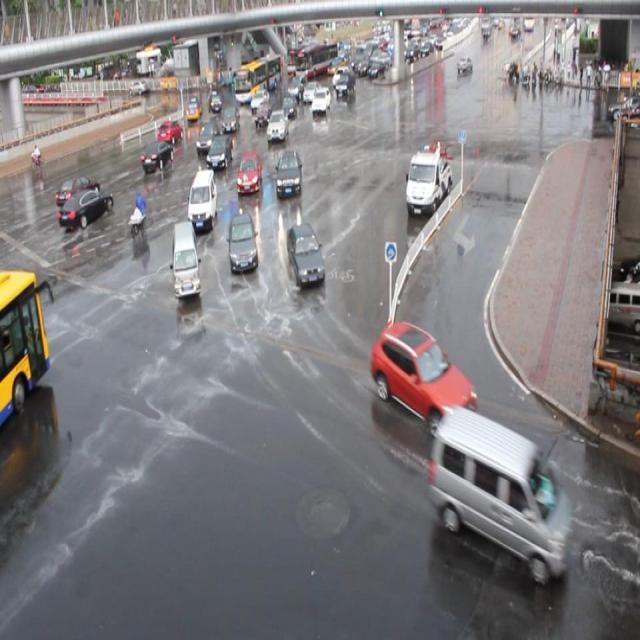bus: (404, 146, 452, 214)
car: (372, 320, 478, 436), (286, 222, 326, 284), (58, 188, 114, 228), (228, 212, 260, 270), (56, 174, 101, 206), (275, 150, 302, 194), (236, 150, 262, 193), (140, 139, 172, 169), (206, 134, 234, 168), (196, 122, 222, 151), (266, 110, 289, 139), (157, 119, 183, 144), (310, 87, 330, 112), (287, 75, 307, 98), (222, 106, 240, 131), (302, 80, 321, 101), (280, 95, 297, 118), (254, 102, 272, 123), (185, 98, 202, 120), (250, 90, 270, 108), (208, 91, 221, 112)
truck: (429, 406, 566, 578), (172, 221, 201, 295), (188, 169, 218, 228)
van: (1, 269, 50, 424), (233, 53, 281, 101)
